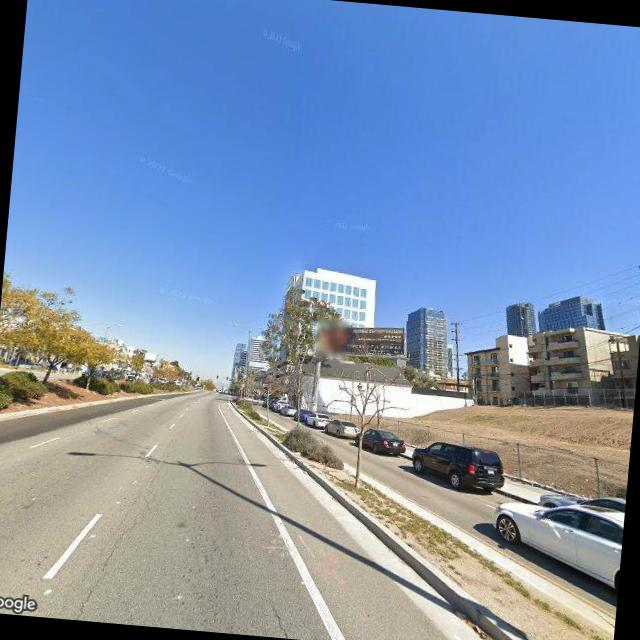pothole: (64, 466, 161, 624), (264, 598, 298, 638)
